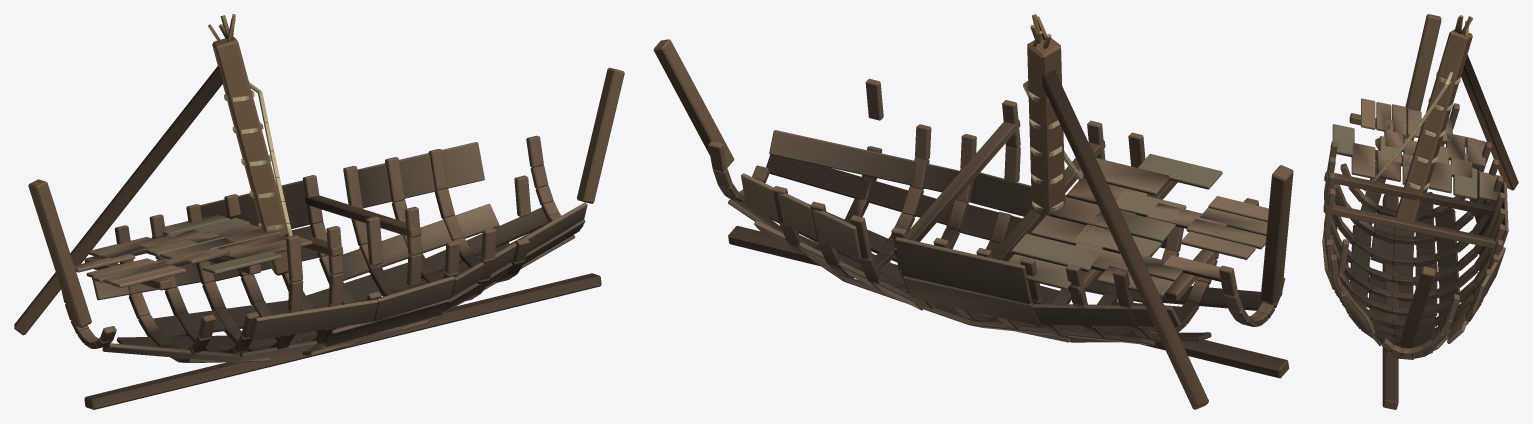
The model's file is HeroShipwreck.fbx.
3 renders of one model, left to right at view 1: azimuth 30°, elevation 25°; view 2: azimuth 150°, elevation 25°; view 3: azimuth 270°, elevation 25°, orthographic. The views are drawn at different scales.
Parts seen in each view (by area): view 1: HeroShipwreck__Wood, HeroShipwreck__Rope; view 2: HeroShipwreck__Wood, HeroShipwreck__Rope; view 3: HeroShipwreck__Wood, HeroShipwreck__Rope.
Part boxes in pixels (left/top/right/bottom): HeroShipwreck__Wood: left=14, top=14, right=624, bottom=409; HeroShipwreck__Rope: left=224, top=82, right=292, bottom=236; HeroShipwreck__Wood: left=653, top=14, right=1293, bottom=409; HeroShipwreck__Rope: left=1023, top=81, right=1083, bottom=212; HeroShipwreck__Wood: left=1322, top=14, right=1518, bottom=409; HeroShipwreck__Rope: left=1363, top=71, right=1460, bottom=191.
Size of the model in its own units: 8.35 by 4.34 by 2.92.
